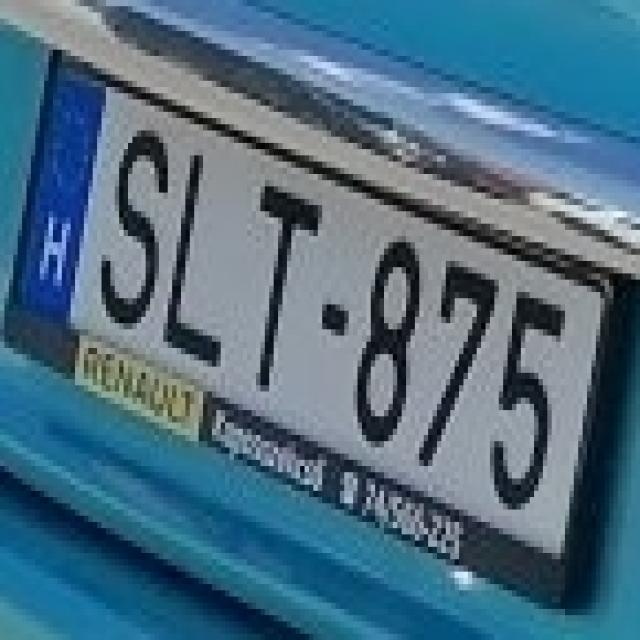5: (476, 267, 574, 510)
7: (402, 242, 504, 466)
8: (336, 218, 428, 448)
L: (150, 124, 234, 367)
S: (80, 106, 176, 330)
T: (230, 162, 326, 392)
